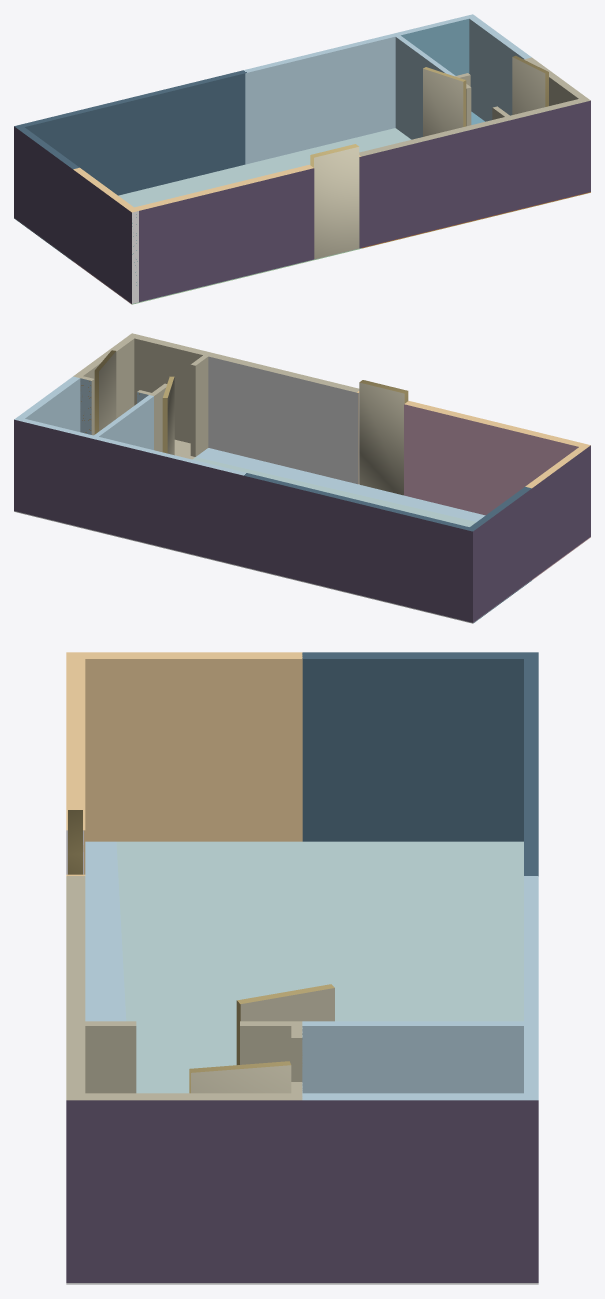
The model's file is SM_HouseInside.fbx.
3 views of the same model, one above another, from view 1: azimuth 30°, elevation 25°; view 2: azimuth 150°, elevation 25°; view 3: azimuth 270°, elevation 25° (orthographic). The views are drawn at different scales.
Visible parts, largest first — view 1: SM_House; view 2: SM_House; view 3: SM_House.
Part boxes in pixels (x1,y1,x2,y2): SM_House: [14, 14, 590, 304]; SM_House: [14, 333, 590, 623]; SM_House: [66, 652, 538, 1284].
Bounding box in the file's own units: 18224 × 3881 × 8117.
